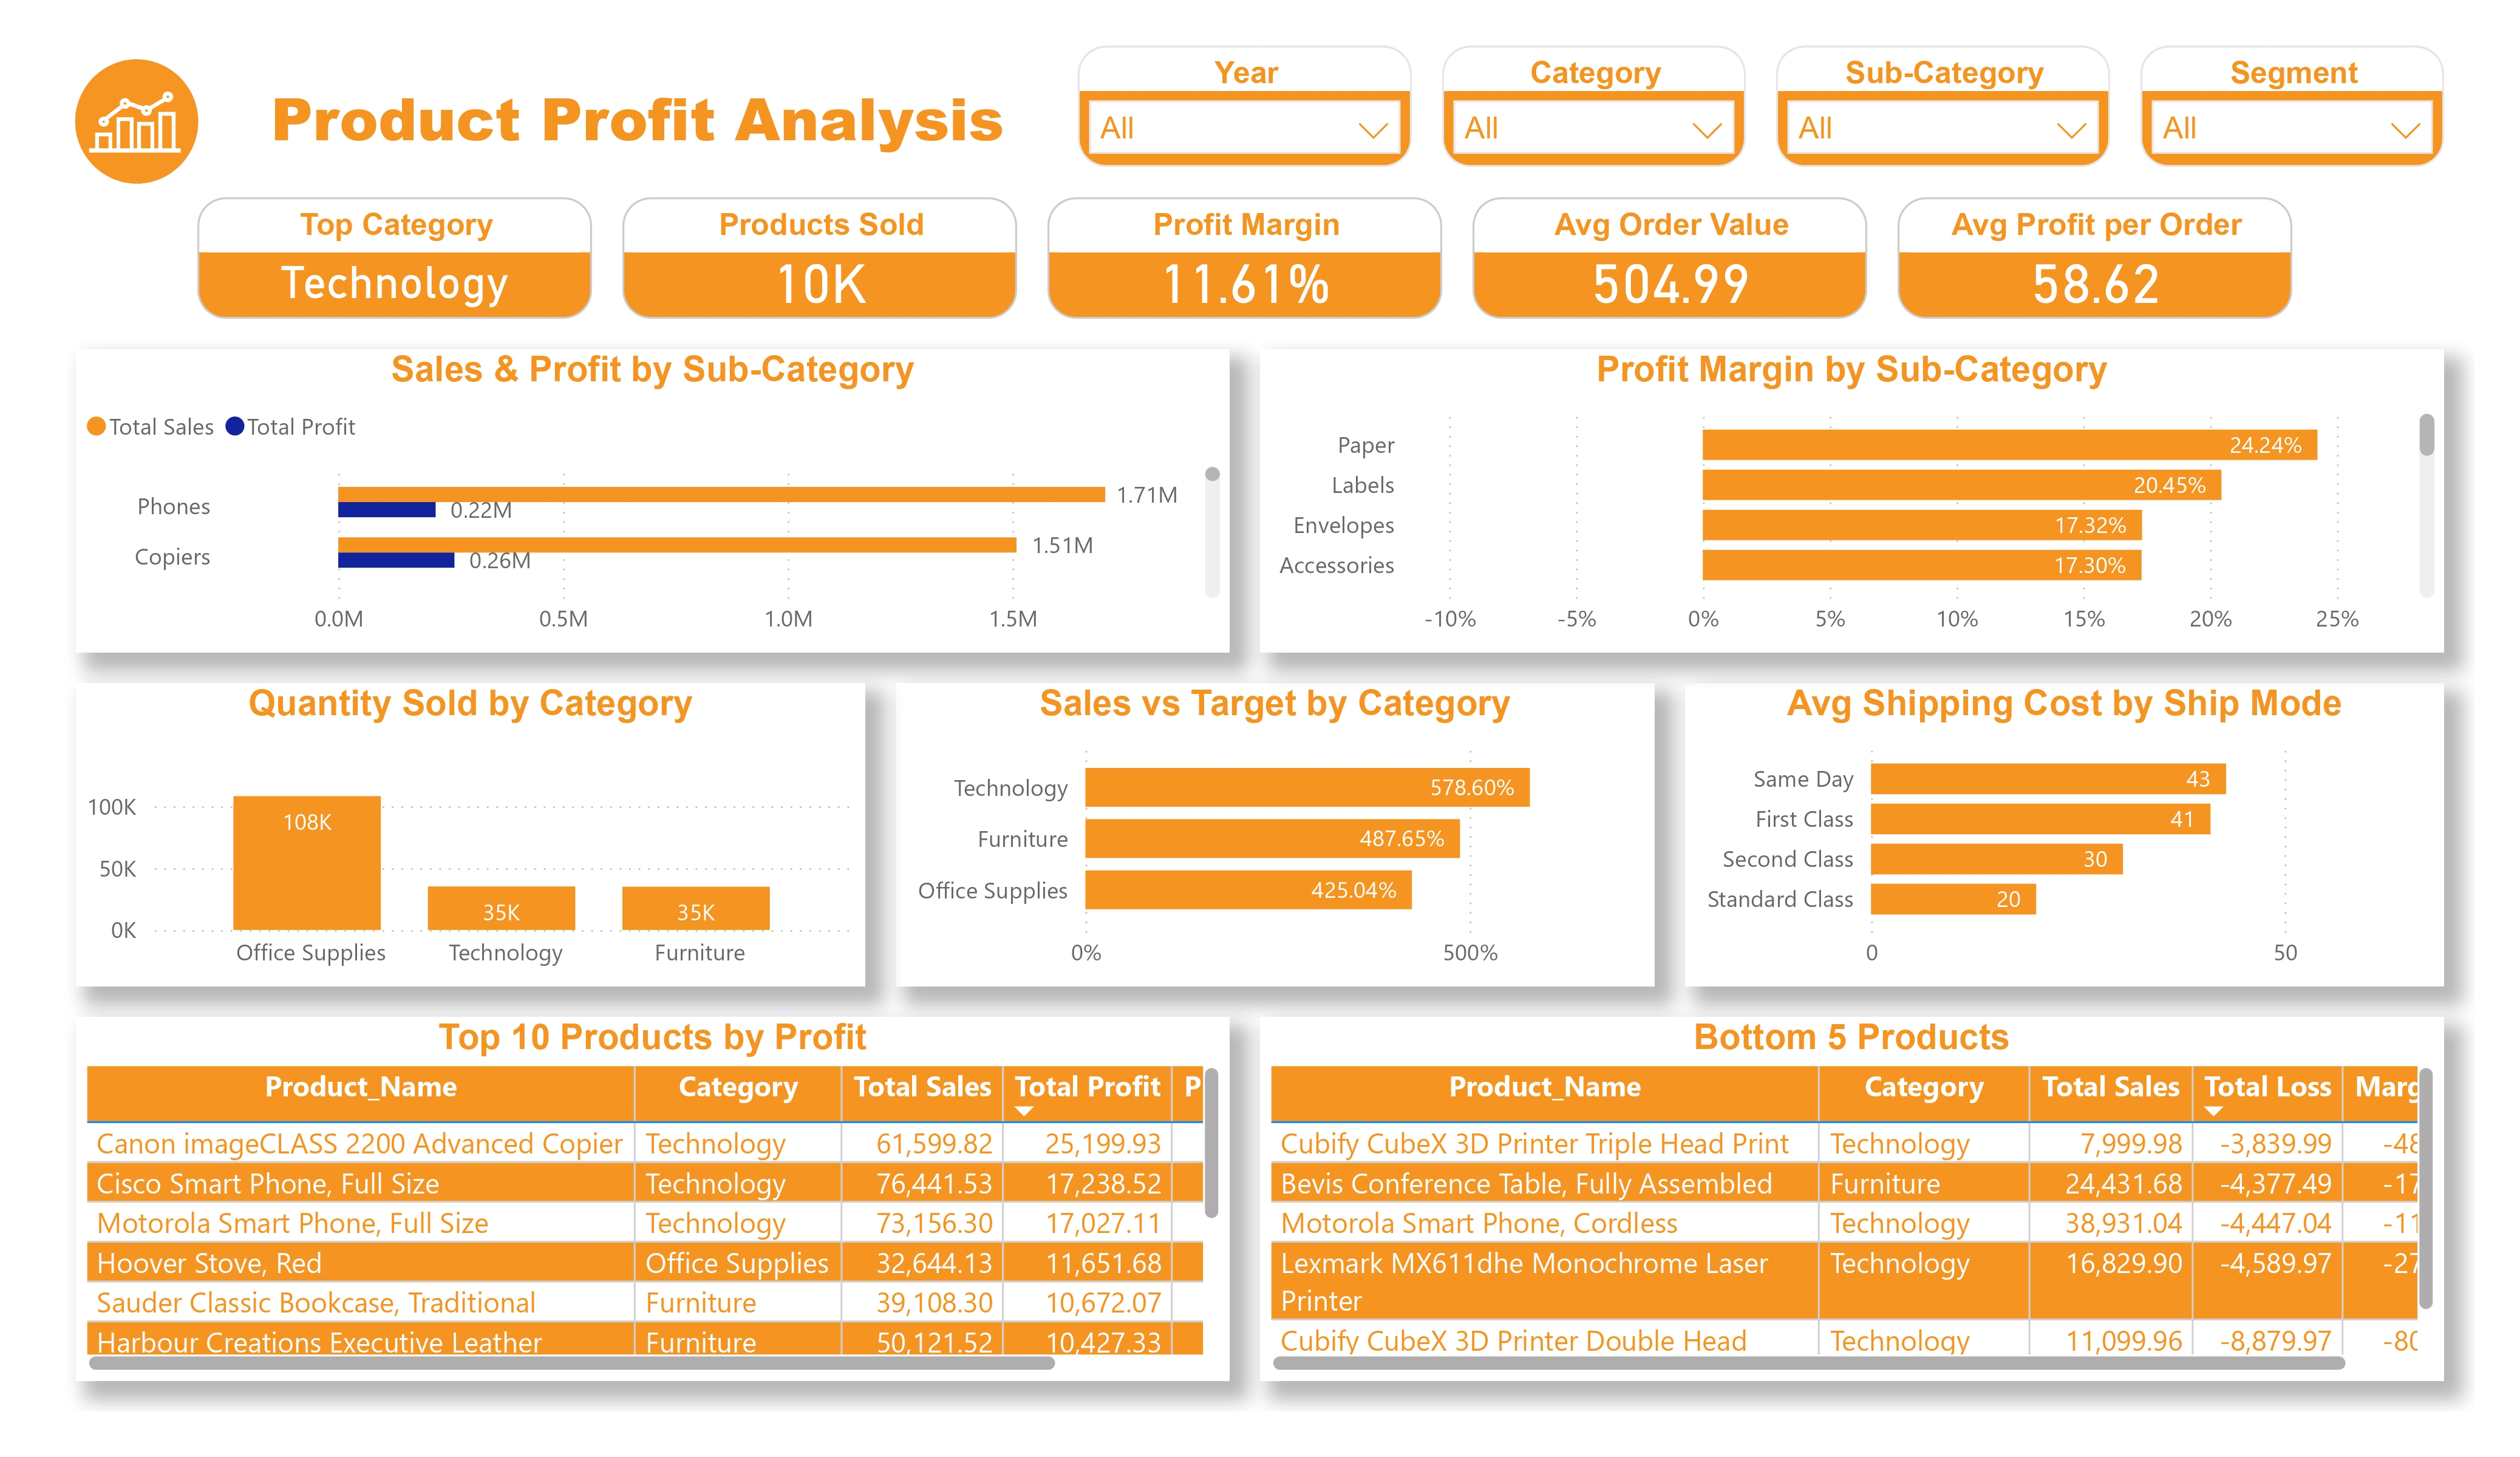

The page's visual inventory and layout, read from the dashboard file:
{"tool":"powerbi","page":{"name":"Products","canvas":[1280,720],"ordinal":1},"visuals":[{"type":"image","box":[0,0,96,80],"z":0},{"type":"textbox","title":"Product Profit Analysis","box":[96,16,432,48],"z":1000},{"type":"slicer","title":"Year","fields":{"Values":["date_table.Year"]},"box":[544,0,176,64],"z":2000},{"type":"slicer","title":"Category","fields":{"Values":["dim_product.Category"]},"box":[736,0,160,64],"z":3000},{"type":"slicer","title":"Sub-Category","fields":{"Values":["dim_product.Sub-Category"]},"box":[912,0,176,64],"z":4000},{"type":"slicer","title":"Segment","fields":{"Values":["dim_customer.Segment"]},"box":[1104,0,160,64],"z":5000},{"type":"card","title":"Top Category","fields":{"Values":["fact_sales.Top Category"]},"box":[80,80,208,64],"z":6000},{"type":"card","title":"Products Sold","fields":{"Values":["fact_sales.Products Sold"]},"box":[304,80,208,64],"z":7000},{"type":"card","title":"Profit Margin","fields":{"Values":["fact_sales.Profit Margin"]},"box":[528,80,208,64],"z":8000},{"type":"card","title":"Avg Order Value","fields":{"Values":["fact_sales.Avg Order Value"]},"box":[752,80,208,64],"z":9000},{"type":"card","title":"Avg Profit per Order","fields":{"Values":["fact_sales.Avg Profit per Order"]},"box":[976,80,208,64],"z":10000},{"type":"clusteredBarChart","title":"Sales & Profit by Sub-Category","fields":{"Y":["fact_sales.Total Sales","fact_sales.Total Profit"],"Category":["dim_product.Sub-Category"]},"box":[16,160,608,160],"z":11000},{"type":"clusteredBarChart","title":"Sales vs Target by Category","fields":{"Category":["dim_product.Category"],"Y":["fact_sales.Target Achievement %"]},"box":[448,336,400,160],"z":12000},{"type":"clusteredBarChart","title":"Avg Shipping Cost by Ship Mode","fields":{"Y":["fact_sales.Avg Shipping Cost"],"Category":["fact_sales.Ship_Mode"]},"box":[864,336,400,160],"z":13000},{"type":"clusteredBarChart","title":"Profit Margin by Sub-Category","fields":{"Category":["dim_product.Sub-Category"],"Y":["fact_sales.Profit Margin"]},"box":[640,160,624,160],"z":14000},{"type":"clusteredColumnChart","title":"Quantity Sold by Category","fields":{"Category":["dim_product.Category"],"Y":["fact_sales.Total Quantity"]},"box":[16,336,416,160],"z":15000},{"type":"tableEx","title":"Top 10 Products by Profit","fields":{"Values":["dim_product.Product_Name","dim_product.Category","fact_sales.Total Sales","fact_sales.Total Profit","fact_sales.Profit Margin"]},"box":[16,512,608,192],"z":16000},{"type":"tableEx","title":"Bottom 5 Products","fields":{"Values":["dim_product.Product_Name","dim_product.Category","fact_sales.Total Sales","fact_sales.Total Profit","fact_sales.Profit Margin"]},"box":[640,512,624,192],"z":17000}]}

Visuals, with their boxes on the page's 1280x720 design canvas (x1, y1, x2, y2). These are canvas units, not pixel positions in the 2520x1457 screenshot, which may show the page scaled, cropped or inside an application window:
image: l=0, t=0, r=96, b=80
"Product Profit Analysis" textbox: l=96, t=16, r=528, b=64
"Year" slicer: l=544, t=0, r=720, b=64
"Category" slicer: l=736, t=0, r=896, b=64
"Sub-Category" slicer: l=912, t=0, r=1088, b=64
"Segment" slicer: l=1104, t=0, r=1264, b=64
"Top Category" card: l=80, t=80, r=288, b=144
"Products Sold" card: l=304, t=80, r=512, b=144
"Profit Margin" card: l=528, t=80, r=736, b=144
"Avg Order Value" card: l=752, t=80, r=960, b=144
"Avg Profit per Order" card: l=976, t=80, r=1184, b=144
"Sales & Profit by Sub-Category" clusteredBarChart: l=16, t=160, r=624, b=320
"Sales vs Target by Category" clusteredBarChart: l=448, t=336, r=848, b=496
"Avg Shipping Cost by Ship Mode" clusteredBarChart: l=864, t=336, r=1264, b=496
"Profit Margin by Sub-Category" clusteredBarChart: l=640, t=160, r=1264, b=320
"Quantity Sold by Category" clusteredColumnChart: l=16, t=336, r=432, b=496
"Top 10 Products by Profit" tableEx: l=16, t=512, r=624, b=704
"Bottom 5 Products" tableEx: l=640, t=512, r=1264, b=704
